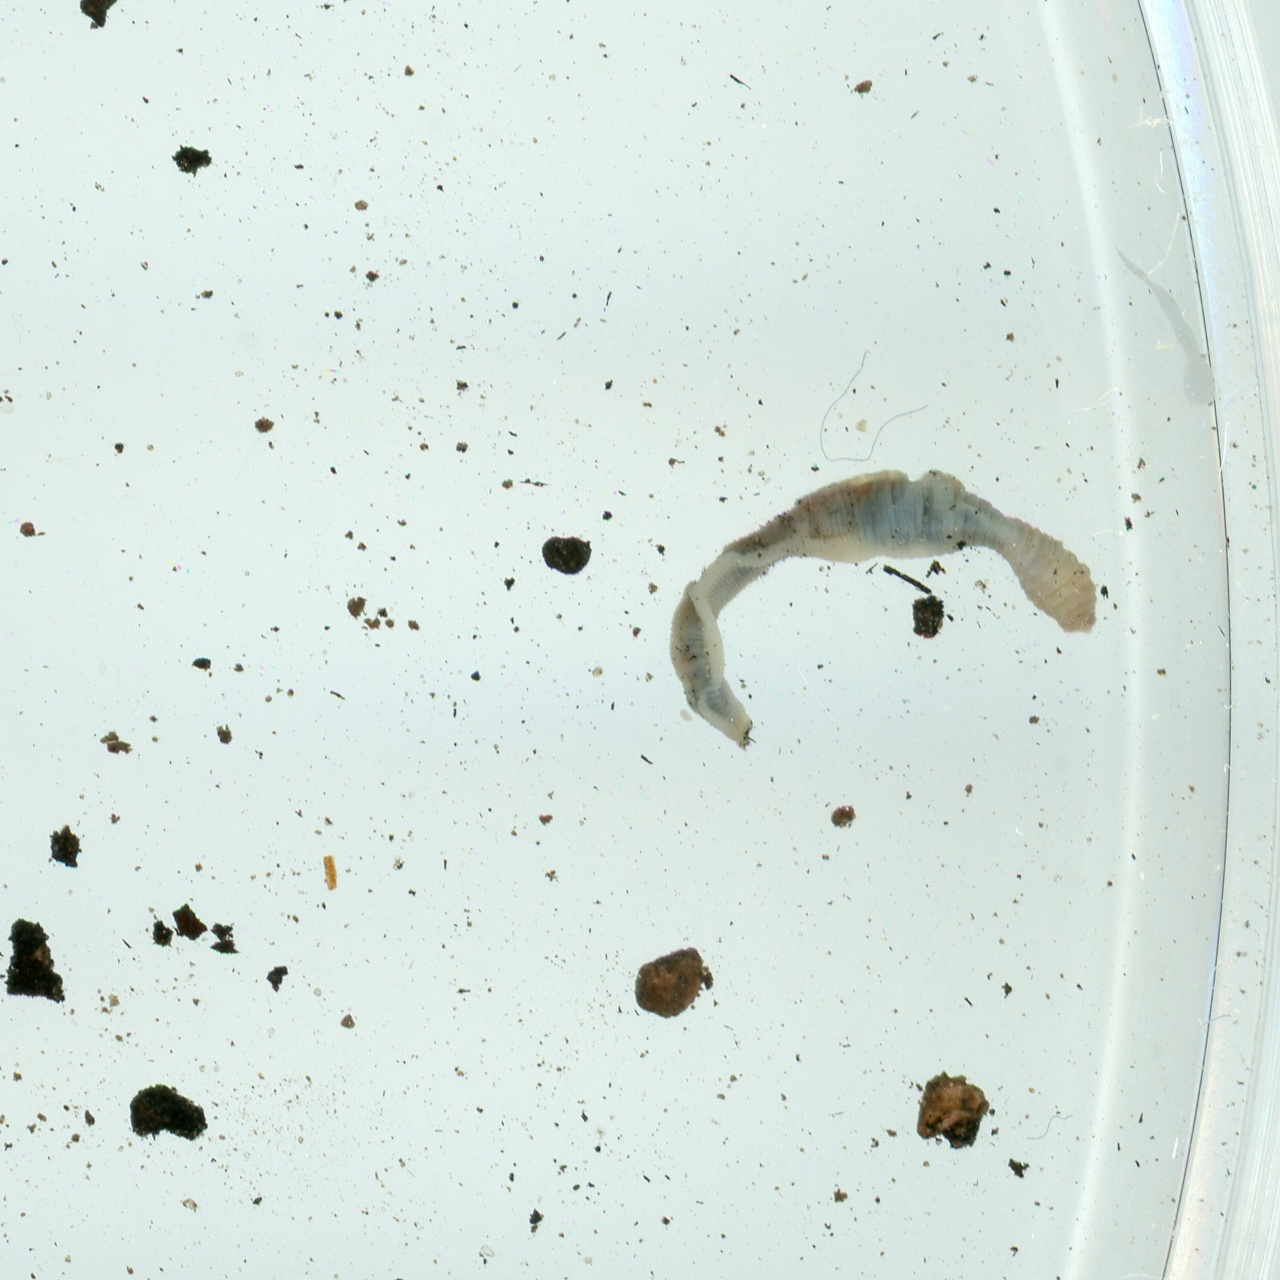arthropod: (664, 464, 1106, 757)
